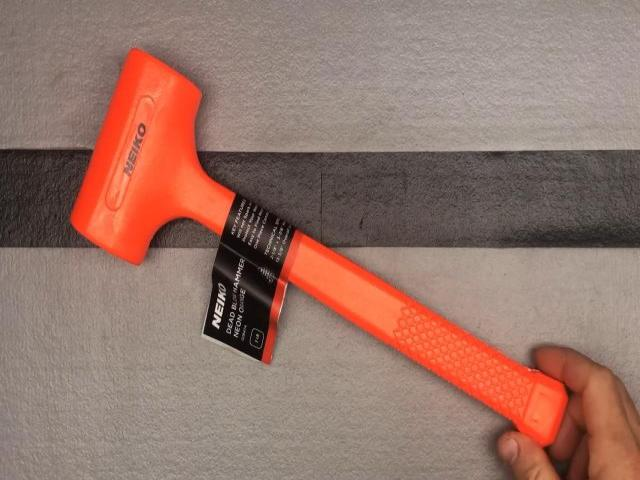hammer: (69, 47, 571, 447)
